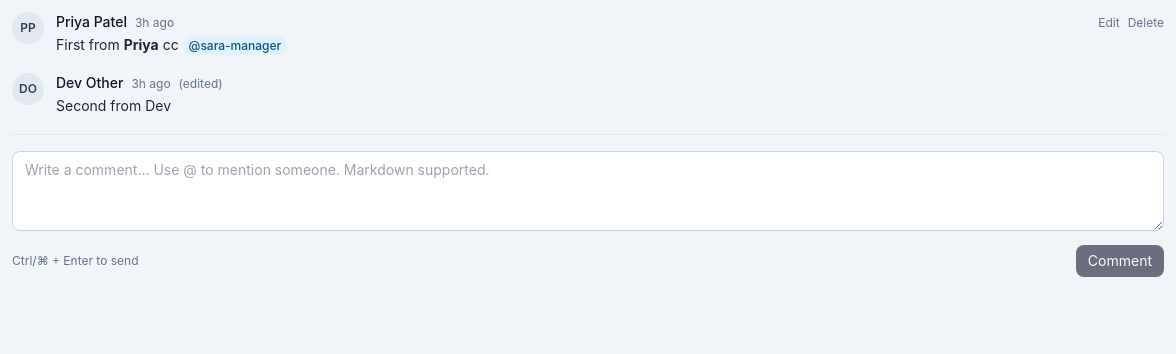
CommentsTab posting › optimistically appends, trims, and refreshes only comments and item activity on success
This screenshot has width=1176, height=354.
Type "  hello @sara-manager  " into the text box named "Add a comment" at (588, 190), box [12,150,1164,230]
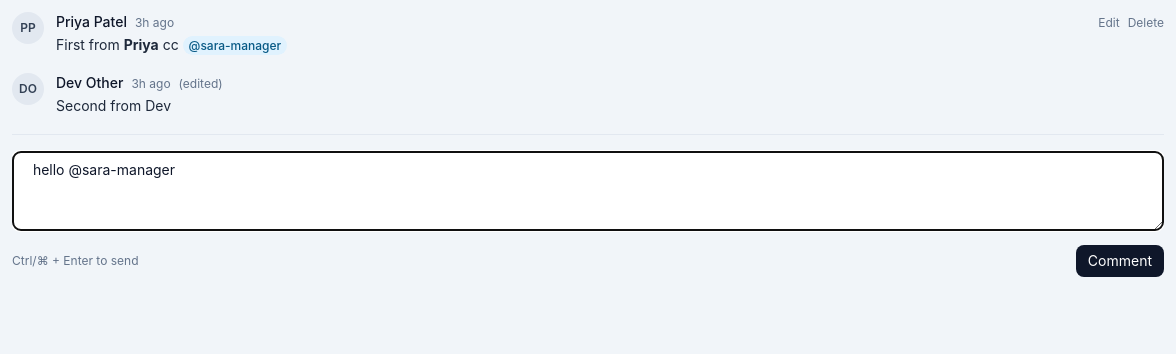
Press Escape
Type keys "{Control>}{Enter}{/Control}"
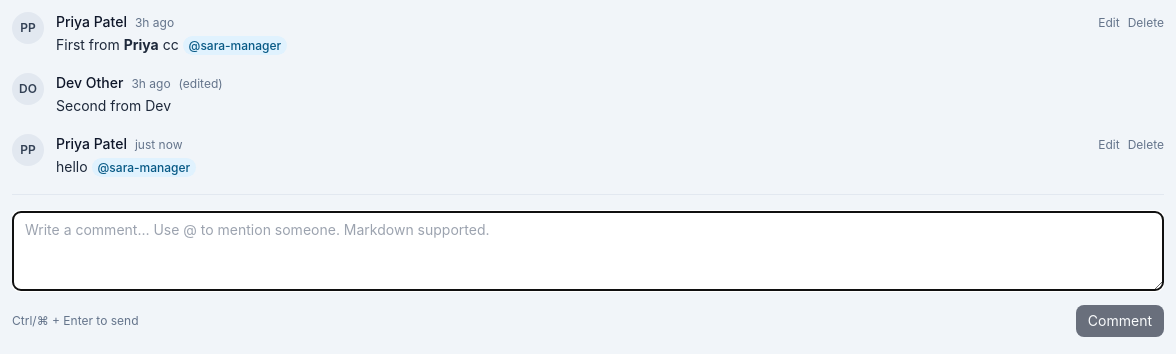
Check: the number of list items with test id "comment" is 3, box [12,12,1164,57]; [12,73,223,114]; [12,134,1164,178]
Check: the list item with test id "comment" shows "just now", box [135,136,182,152]
